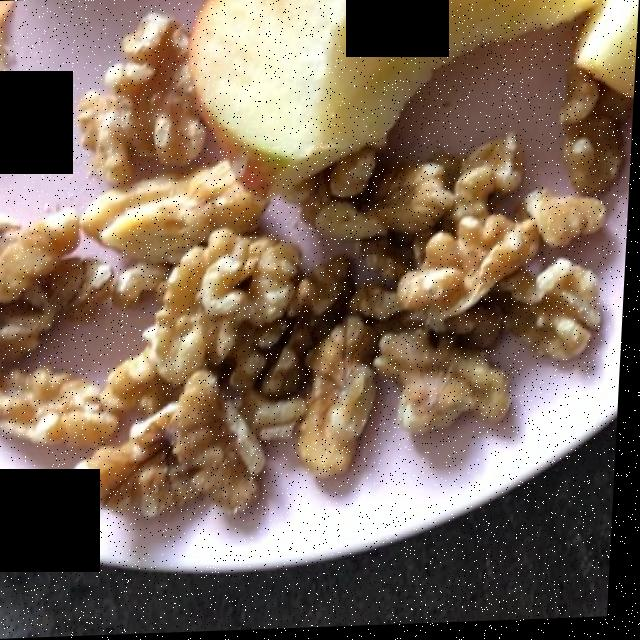walnut: (12, 77, 619, 521)
